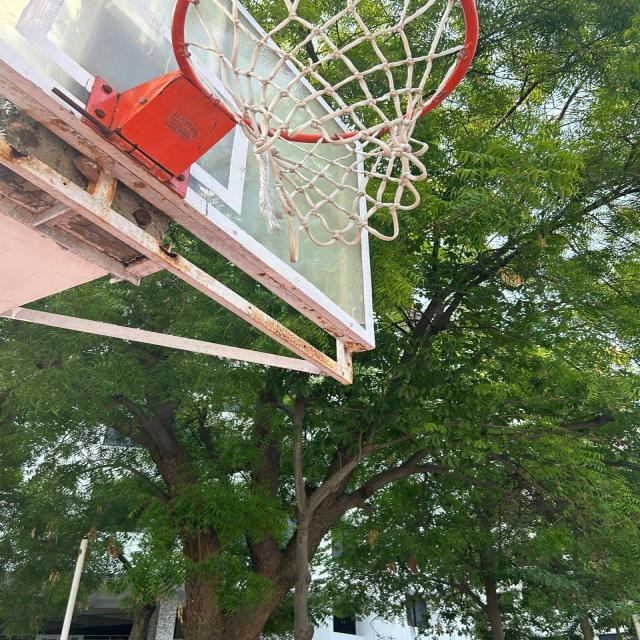hoop: (56, 1, 533, 254)
